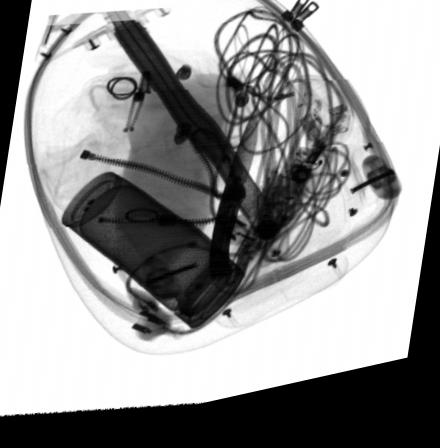Knife: (209, 115, 260, 290)
